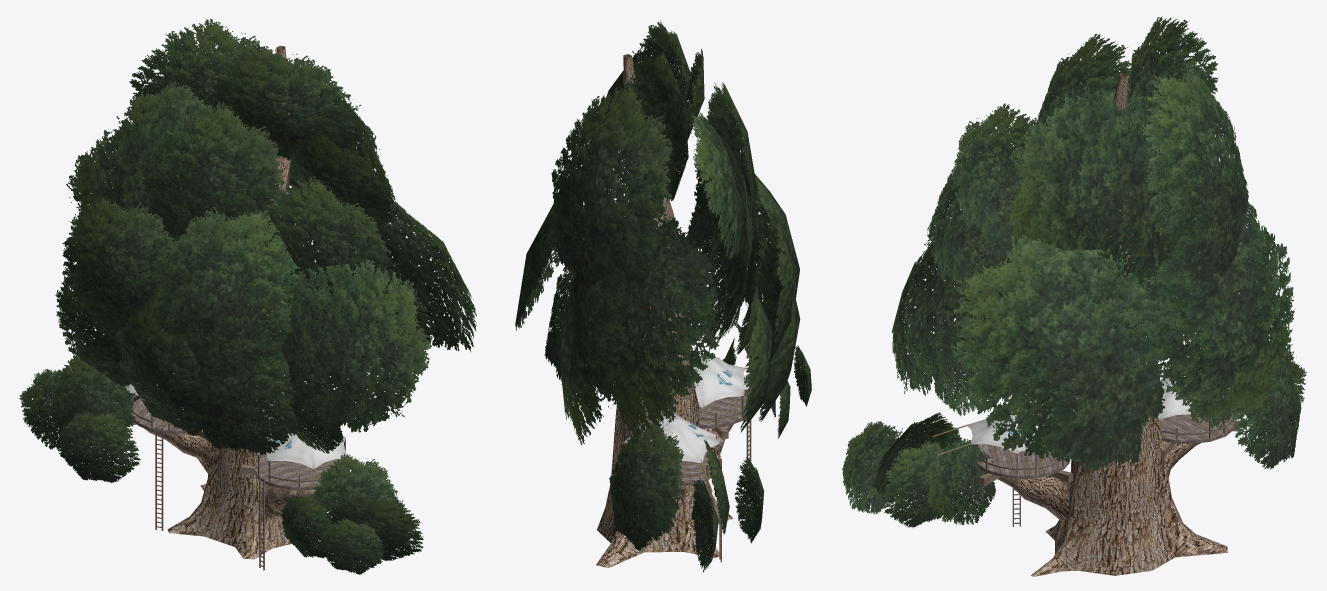
File: tree1_gBIGTREE3.obj
3 views of the same model, side by side, from view 1: azimuth 30°, elevation 25°; view 2: azimuth 150°, elevation 25°; view 3: azimuth 270°, elevation 25° (orthographic). The views are drawn at different scales.
Visible parts, largest first — view 1: tree1:polySurface163_0, tree1:polySurface149_0, tree1:polySurface154_0, tree1:polySurface153_0, tree1:stand_tent51_0, tree1:stand_tent52_0, tree1:polySurface150_0; view 2: tree1:polySurface163_0, tree1:polySurface149_0, tree1:polySurface154_0, tree1:stand_tent51_0, tree1:stand_tent41_0, tree1:stand_tent52_0, tree1:polySurface153_0, tree1:stand_tent42_0; view 3: tree1:polySurface163_0, tree1:polySurface149_0, tree1:polySurface154_0, tree1:polySurface153_0, tree1:stand_tent51_0.
Boxes of the visible parts, box(x1,y1,x2,y2) form: tree1:polySurface163_0: box(19, 19, 476, 574); tree1:polySurface149_0: box(102, 45, 339, 559); tree1:polySurface154_0: box(241, 438, 346, 499); tree1:polySurface153_0: box(125, 393, 221, 443); tree1:stand_tent51_0: box(256, 425, 347, 468); tree1:stand_tent52_0: box(258, 425, 345, 468); tree1:polySurface150_0: box(155, 426, 163, 530); tree1:polySurface163_0: box(515, 20, 811, 572); tree1:polySurface149_0: box(596, 54, 751, 567); tree1:polySurface154_0: box(699, 389, 761, 439); tree1:stand_tent51_0: box(693, 353, 748, 407); tree1:stand_tent41_0: box(624, 413, 719, 463); tree1:stand_tent52_0: box(695, 355, 748, 407); tree1:polySurface153_0: box(623, 435, 720, 497); tree1:stand_tent42_0: box(624, 415, 719, 462); tree1:polySurface163_0: box(842, 16, 1306, 527); tree1:polySurface149_0: box(890, 73, 1279, 576); tree1:polySurface154_0: box(972, 444, 1072, 486); tree1:polySurface153_0: box(1159, 408, 1240, 458); tree1:stand_tent51_0: box(967, 409, 1051, 453).
Size of the model in its own units: 547 by 823 by 673.
